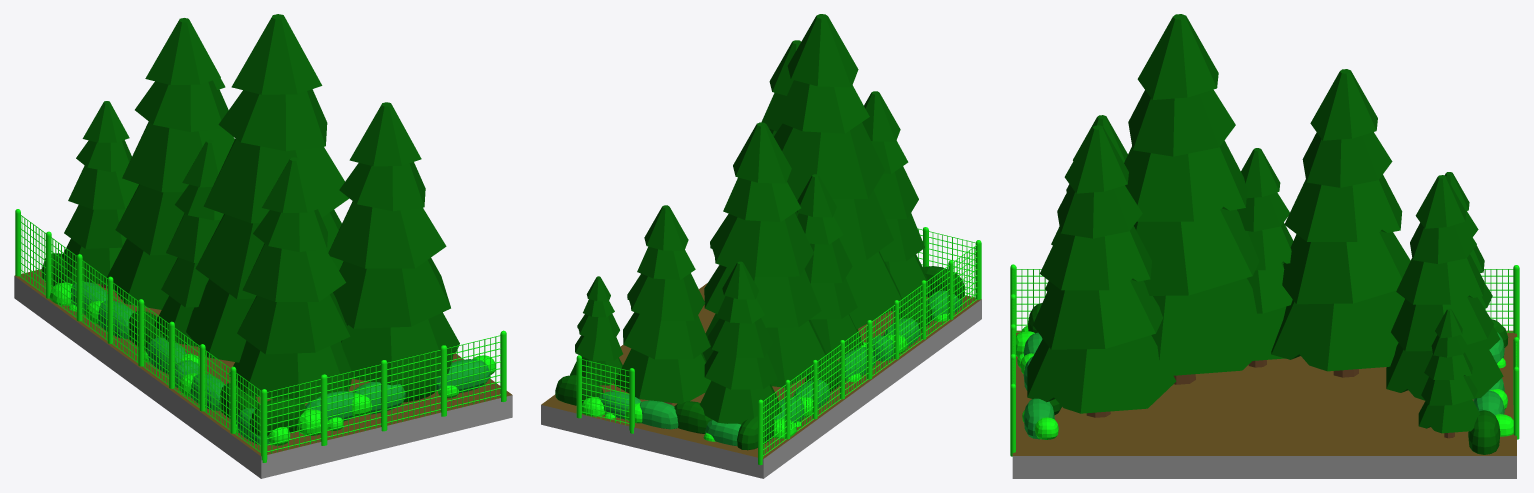
Rendered from Forest1.glb.
3 renders of one model, left to right at view 1: azimuth 30°, elevation 25°; view 2: azimuth 150°, elevation 25°; view 3: azimuth 270°, elevation 25°, orthographic. The views are drawn at different scales.
Parts seen in each view (by area): view 1: B7.014; view 2: B7.014; view 3: B7.014.
Part boxes in pixels (<box>): B7.014: <box>14,14,512,478</box>; B7.014: <box>541,14,981,478</box>; B7.014: <box>1010,14,1519,478</box>.
Bounding box in the file's own units: 117 × 168 × 201.
